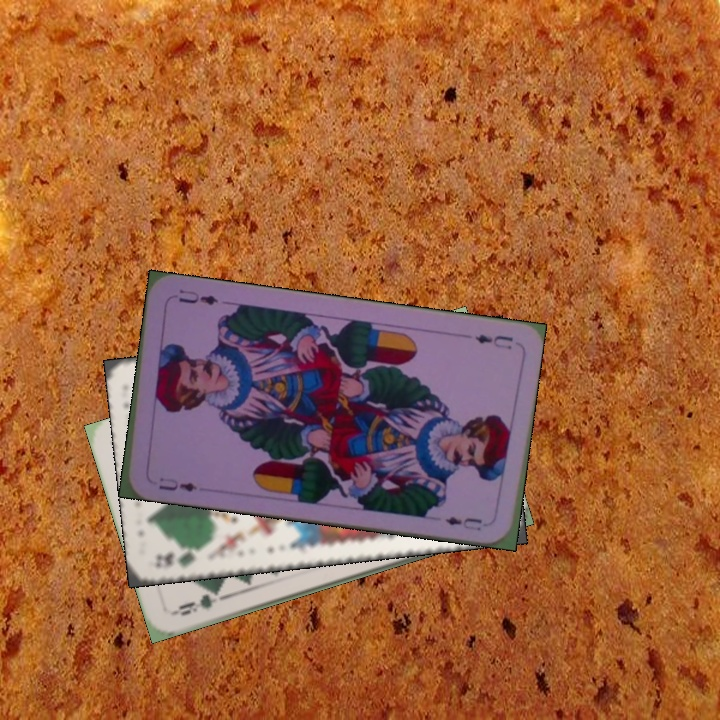EU: (470, 330, 516, 352), (155, 473, 200, 495)
G9: (168, 585, 226, 619)
GK: (151, 543, 209, 570)
